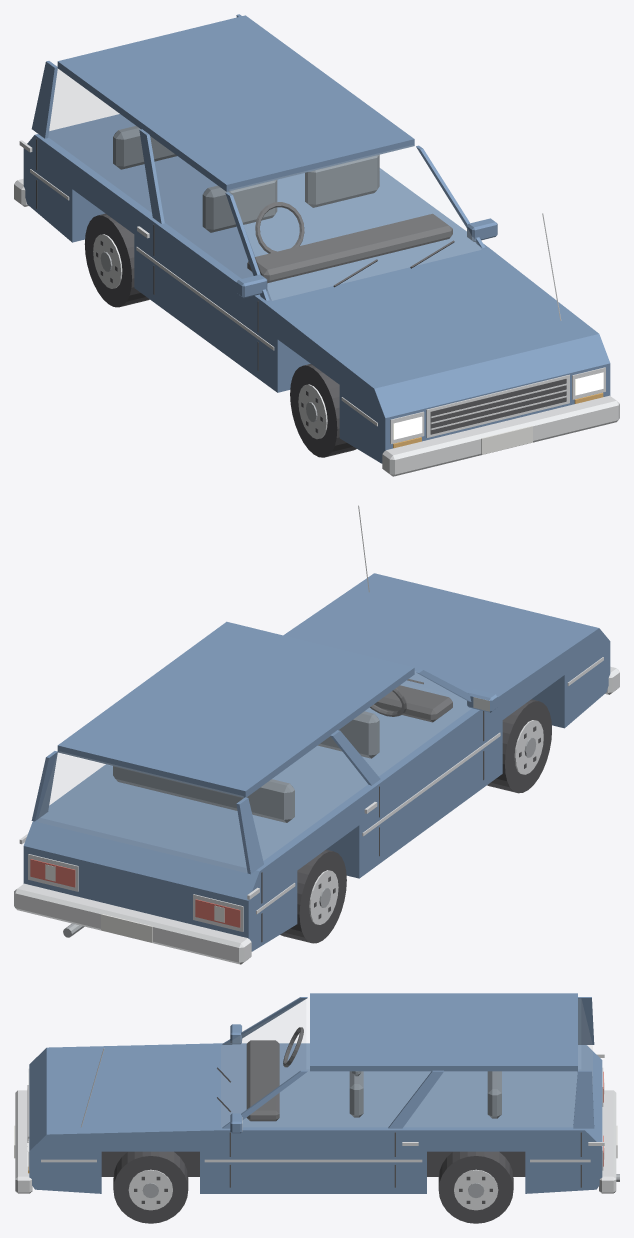
Rendered from car_wagon_b.glb.
The picture shows the model from 3 angles, top to bottom: view 1: azimuth 30°, elevation 25°; view 2: azimuth 150°, elevation 25°; view 3: azimuth 270°, elevation 25°; orthographic projection. The views are drawn at different scales.
Parts seen in each view (by area): view 1: car_wagon_b_car_b, car_wagon_b_glass, car_wagon_b_chrome, car_wagon_b_dark, car_wagon_b_vinyl, car_wagon_b_rubber, car_wagon_b_lamp_glass, car_wagon_b_paint_w; view 2: car_wagon_b_car_b, car_wagon_b_glass, car_wagon_b_chrome, car_wagon_b_rubber, car_wagon_b_vinyl, car_wagon_b_dark, car_wagon_b_neon_r, car_wagon_b_paint_w; view 3: car_wagon_b_car_b, car_wagon_b_glass, car_wagon_b_rubber, car_wagon_b_chrome, car_wagon_b_dark, car_wagon_b_vinyl, car_wagon_b_steel.
Boxes of the visible parts, box(x1,y1,x2,y2) form: car_wagon_b_car_b: box(23, 14, 610, 463); car_wagon_b_glass: box(49, 69, 480, 299); car_wagon_b_chrome: box(14, 140, 619, 476); car_wagon_b_dark: box(36, 138, 566, 434); car_wagon_b_vinyl: box(113, 126, 379, 232); car_wagon_b_rubber: box(84, 213, 356, 457); car_wagon_b_lamp_glass: box(393, 372, 603, 439); car_wagon_b_paint_w: box(481, 426, 532, 454); car_wagon_b_car_b: box(23, 573, 610, 951); car_wagon_b_glass: box(38, 672, 470, 872); car_wagon_b_chrome: box(14, 505, 619, 964); car_wagon_b_rubber: box(280, 699, 551, 943); car_wagon_b_vinyl: box(113, 711, 379, 822); car_wagon_b_dark: box(261, 679, 540, 942); car_wagon_b_neon_r: box(30, 859, 240, 927); car_wagon_b_paint_w: box(45, 864, 224, 942); car_wagon_b_car_b: box(29, 993, 602, 1193); car_wagon_b_glass: box(221, 999, 592, 1126); car_wagon_b_rubber: box(101, 1151, 525, 1223); car_wagon_b_chrome: box(15, 1048, 616, 1210); car_wagon_b_dark: box(27, 1027, 581, 1203); car_wagon_b_vinyl: box(349, 1071, 501, 1118); car_wagon_b_steel: box(142, 1174, 619, 1197).
Size of the model in its own units: 2 by 1.6 by 5.18.
